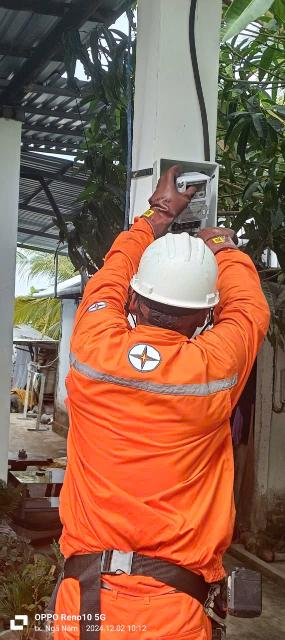gloves: (45, 523, 268, 637), (116, 158, 200, 235), (199, 220, 259, 263)
helmet: (130, 233, 233, 319)
